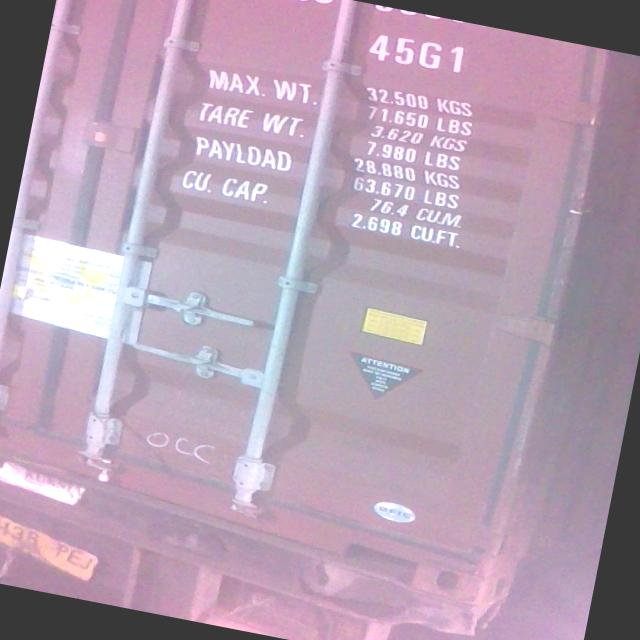seal: (91, 452, 122, 488)
